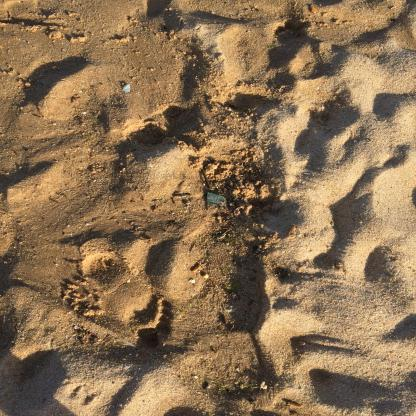Plastic: (207, 192, 229, 205)
Waste: (286, 401, 301, 409), (191, 263, 202, 273), (309, 4, 317, 14)
